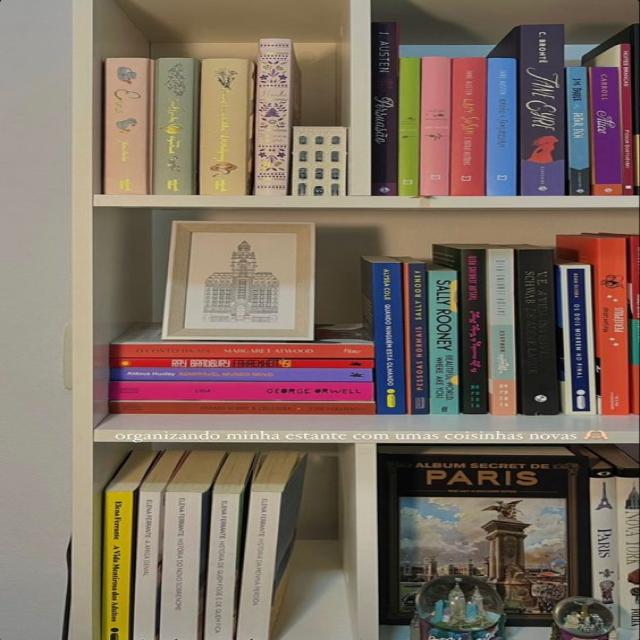book: (521, 25, 566, 195), (199, 58, 250, 195), (518, 249, 559, 416), (159, 492, 203, 640), (237, 493, 281, 640), (105, 59, 148, 194), (254, 39, 290, 195), (599, 237, 630, 414), (561, 265, 597, 414), (204, 494, 240, 639), (111, 382, 373, 401), (156, 59, 192, 194), (373, 263, 405, 414), (451, 58, 486, 195), (487, 249, 515, 415), (102, 491, 133, 640), (131, 491, 161, 639), (592, 467, 619, 629), (460, 249, 486, 416), (589, 67, 622, 195), (429, 271, 458, 415), (373, 23, 397, 195), (487, 58, 515, 196), (111, 344, 374, 358), (422, 57, 448, 196), (618, 467, 640, 629), (110, 402, 376, 415), (406, 263, 428, 414), (567, 66, 591, 196), (109, 370, 372, 381), (108, 359, 374, 369), (401, 57, 419, 195), (622, 44, 630, 195)
